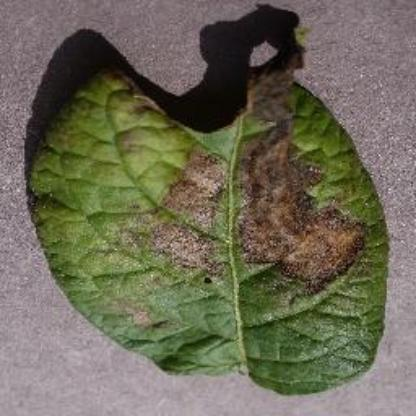Late-Blight: (24, 24, 392, 396)
